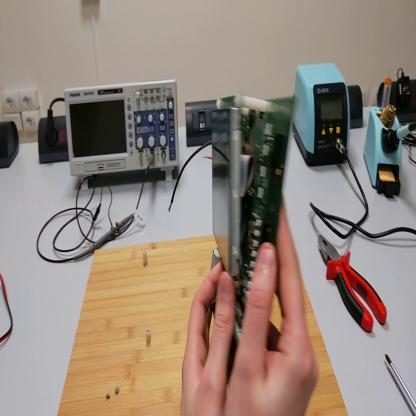hand: (224, 210, 321, 415), (181, 259, 236, 415)
low voltage board: (213, 96, 306, 391)
oscilloscope: (65, 78, 180, 194)
oscilloscope probe tip: (75, 213, 134, 264)
pliers: (318, 231, 388, 334)
screwdriver-: (388, 355, 416, 408)
socket: (378, 77, 416, 122), (37, 117, 68, 165), (2, 120, 21, 171), (350, 83, 366, 134)
welder base: (365, 71, 405, 201)
welder probe tip: (388, 120, 415, 147)
welder station: (294, 61, 353, 167)
working area: (58, 240, 348, 414)
